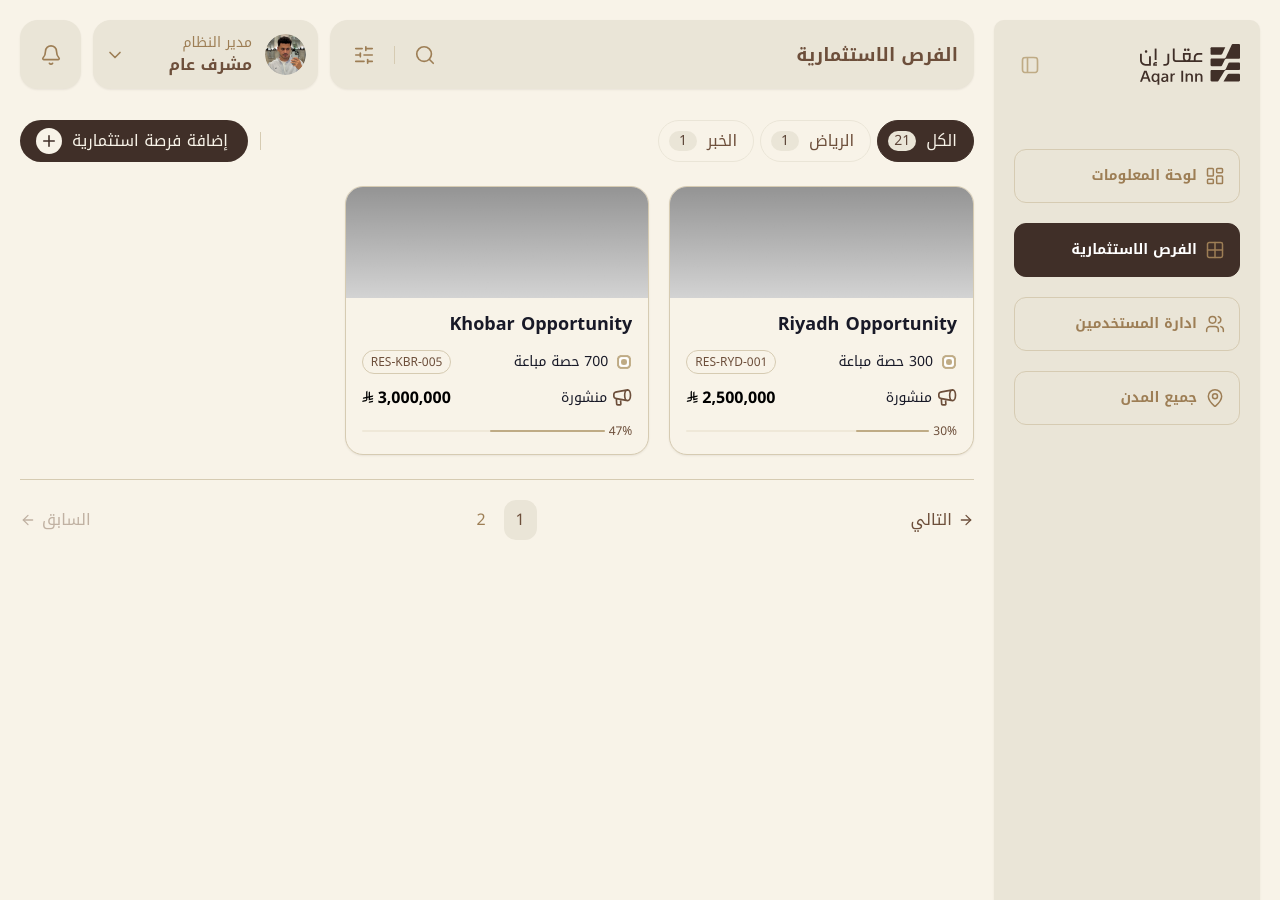
Test: InvestmentOpportunitiesPage route › navigates from the toolbar add button to the add opportunity page
Click the button "إضافة فرصة استثمارية": {"x": 134, "y": 141} [20,120,248,162]
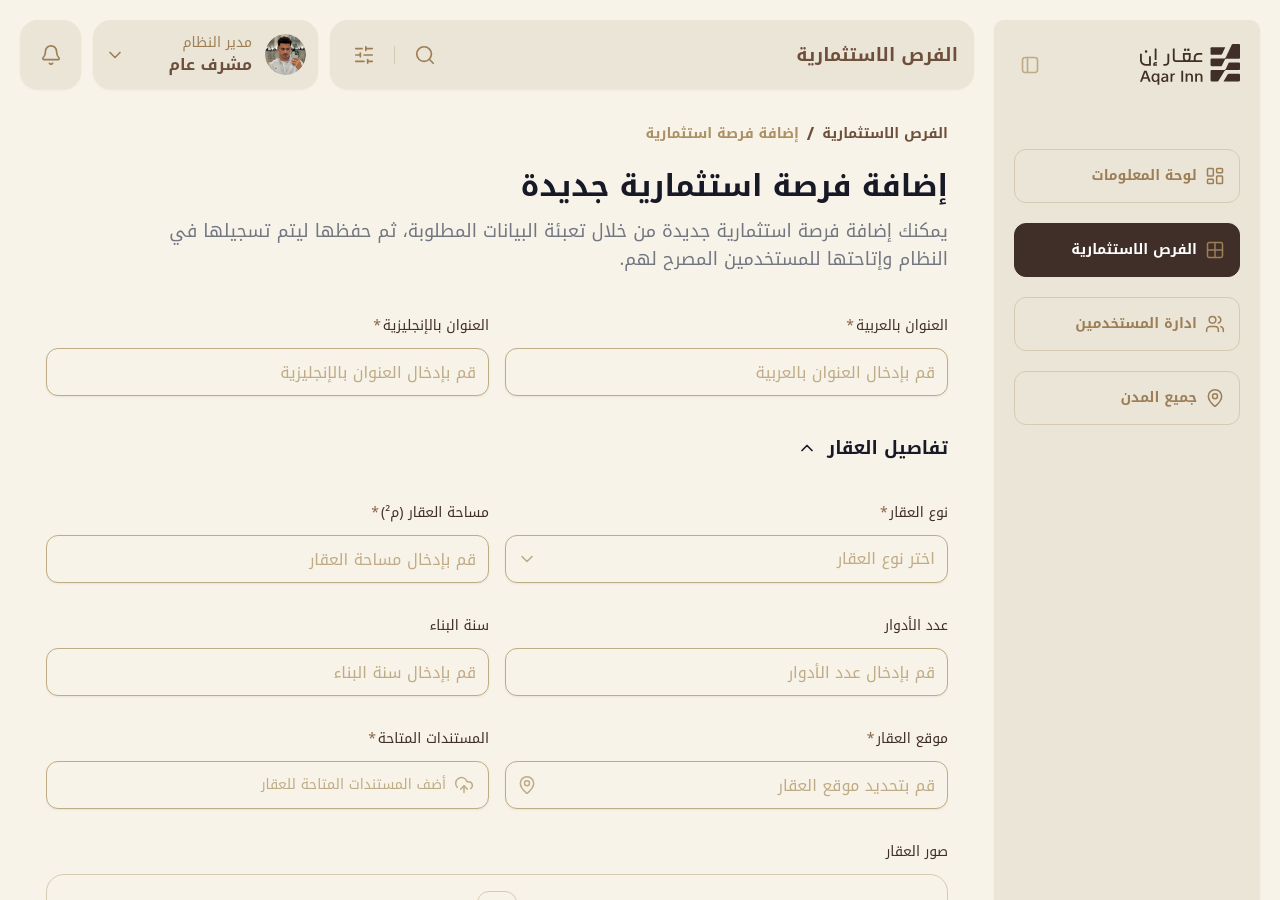
Result: the heading "إضافة فرصة استثمارية جديدة" is shown at [521,158,948,214]
